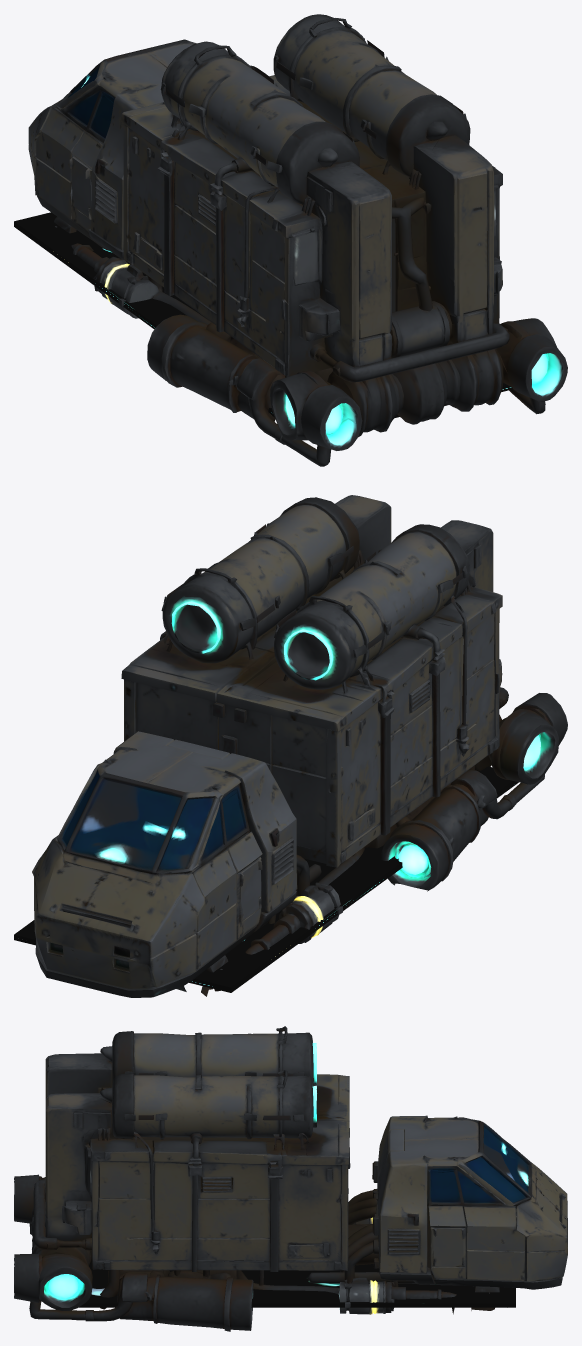
Rendered from hauler_gunmetal.glb.
The picture shows the model from 3 angles, top to bottom: view 1: azimuth 30°, elevation 25°; view 2: azimuth 150°, elevation 25°; view 3: azimuth 270°, elevation 25°; orthographic projection. The views are drawn at different scales.
Visible parts, largest first — view 1: model, Underplate; view 2: model, Underplate; view 3: model, Underplate.
Boxes of the visible parts, box(x1,y1,x2,y2) form: model: box(28, 14, 567, 466); Underplate: box(14, 212, 512, 418); model: box(32, 495, 567, 997); Underplate: box(14, 766, 518, 992); model: box(14, 1026, 567, 1331); Underplate: box(79, 1260, 515, 1307).
Size of the model in its own units: 3.35 by 3.23 by 7.07.
2 materials, 2 textured.
